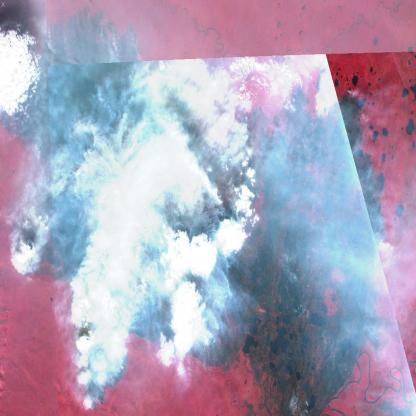fire: (312, 82, 390, 276), (44, 0, 195, 91), (73, 294, 133, 416), (12, 224, 48, 279)
